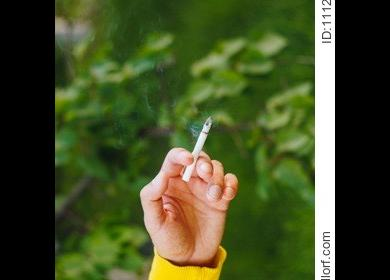Cigarette: (184, 115, 212, 182)
